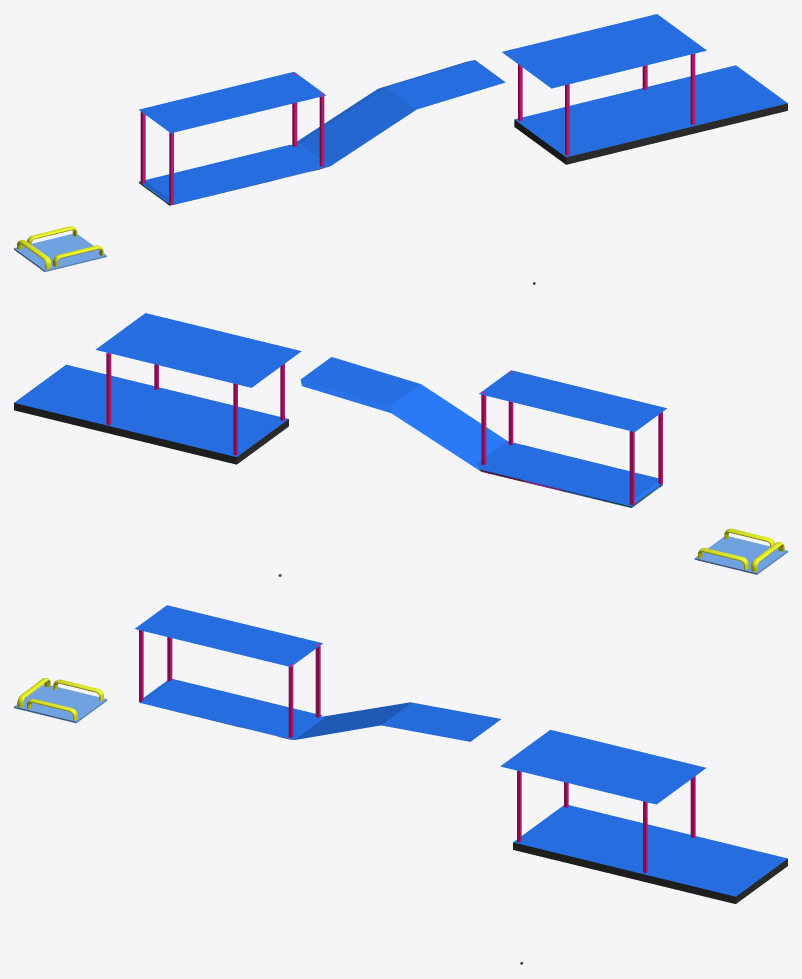
File: Baranda.Proyecto 2.fbx
3 views of the same model, one above another, from view 1: azimuth 30°, elevation 25°; view 2: azimuth 150°, elevation 25°; view 3: azimuth 330°, elevation 25° (orthographic).
Parts seen in each view (by area): view 1: Plane.001, Cube.001, Plane.002, Plane, Cube; view 2: Cube.001, Plane.001, Plane.002, Plane, Cube; view 3: Plane.001, Cube.001, Plane.002, Plane, Cube.
Boxes of the visible parts, x1,y1,x2,y2 form: Plane.001: [514, 65, 787, 164]; Cube.001: [139, 60, 535, 284]; Plane.002: [502, 14, 706, 88]; Plane: [139, 72, 325, 133]; Cube: [14, 234, 106, 271]; Cube.001: [278, 357, 662, 576]; Plane.001: [14, 364, 288, 464]; Plane.002: [95, 313, 301, 387]; Plane: [479, 370, 666, 431]; Cube: [694, 536, 787, 574]; Plane.001: [513, 805, 787, 903]; Cube.001: [139, 679, 523, 964]; Plane.002: [500, 730, 706, 804]; Plane: [135, 605, 322, 666]; Cube: [14, 684, 107, 723].
Size of the model in its own units: 48796 by 15986 by 6010.
Materials: 12 (12 with a texture image).
